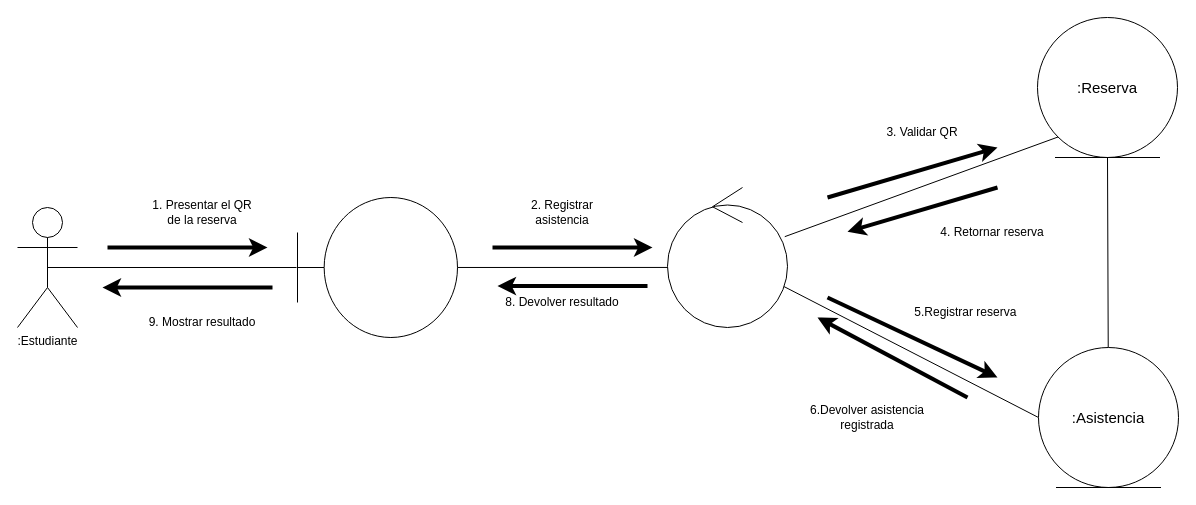
This 1196x505 diagram has some shape labels left out. The centre of each missing label's shape, as x and y in pixels:
:Gestión Asistencia: [727,257]
:PantallaEvento: [377,267]
